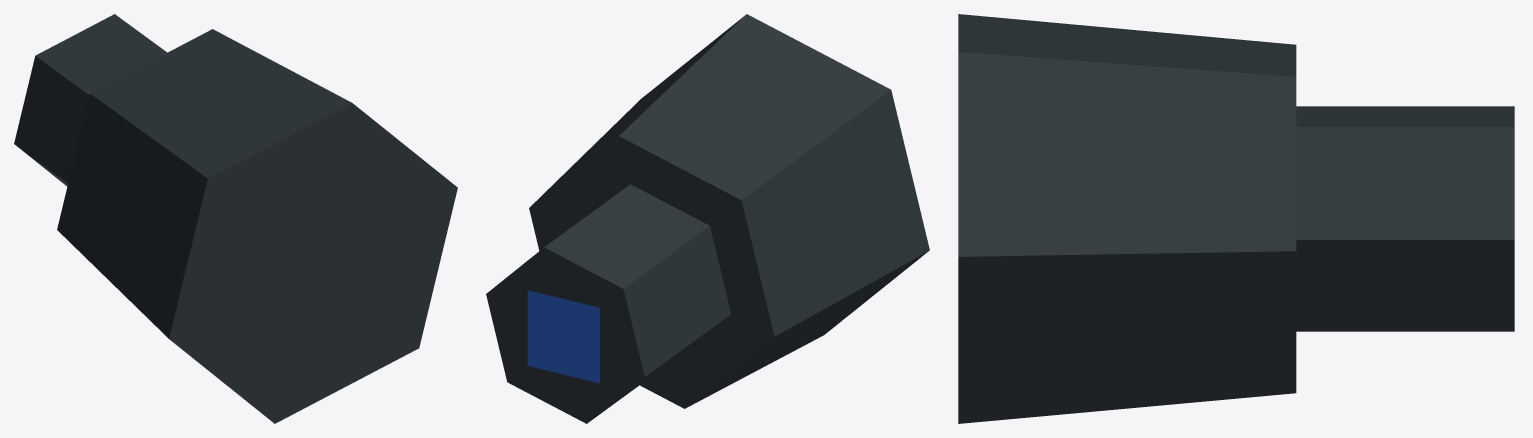
The picture shows the model from 3 angles, left to right: view 1: azimuth 30°, elevation 25°; view 2: azimuth 150°, elevation 25°; view 3: azimuth 270°, elevation 25°; orthographic projection. The views are drawn at different scales.
Parts seen in each view (by area): view 1: mount; view 2: mount; view 3: mount.
Part boxes in pixels (x1,y1,x2,y2): mount: (14, 14, 457, 423); mount: (486, 14, 929, 423); mount: (958, 14, 1514, 423).
Size of the model in its own units: 3.09 by 3.09 by 4.11.
